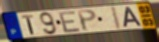9: (39, 12, 59, 36)
A: (123, 6, 144, 29)
E: (58, 10, 83, 34)
I: (111, 5, 123, 31)
P: (76, 9, 98, 33)
T: (20, 14, 36, 36)
